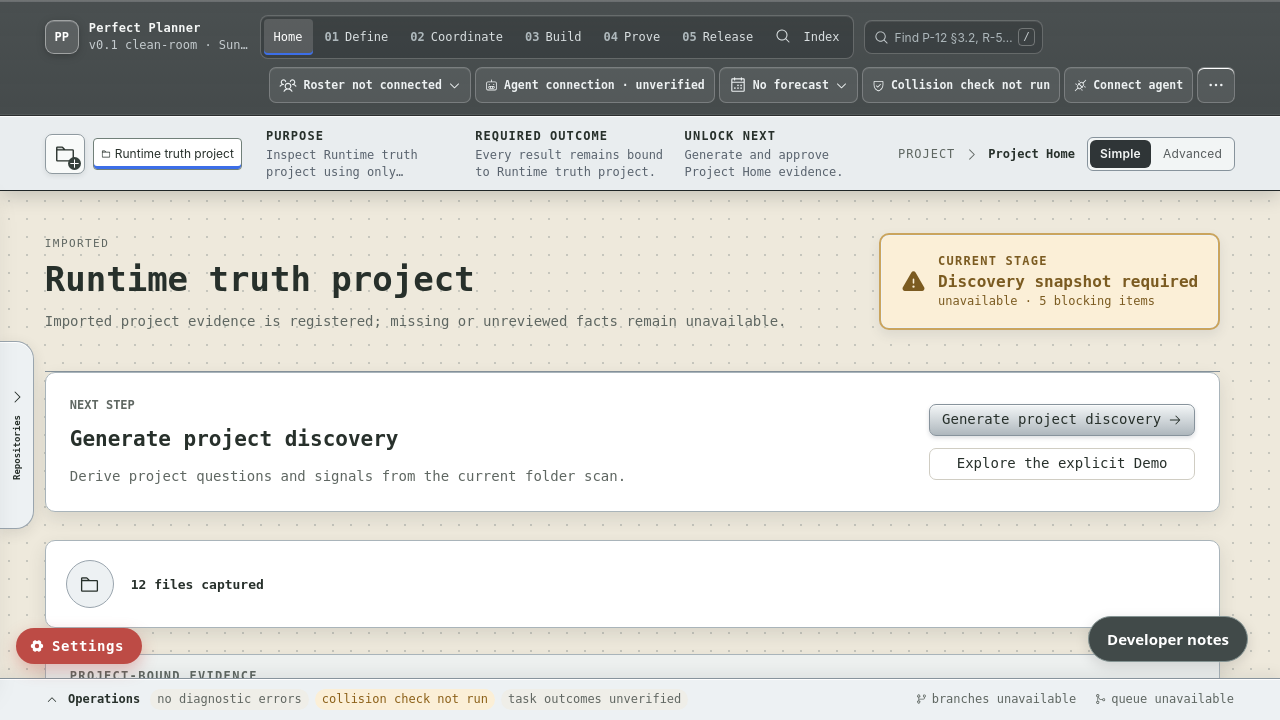
Test: project-scoped Runtime & Connections surface › only a current project-bound receipt grants scopes and enables its eligible action
The width and height of the screenshot is (1280, 720).
Click the button named "More actions" at (1216, 85), box x1=1197 y1=67 x2=1235 y2=103
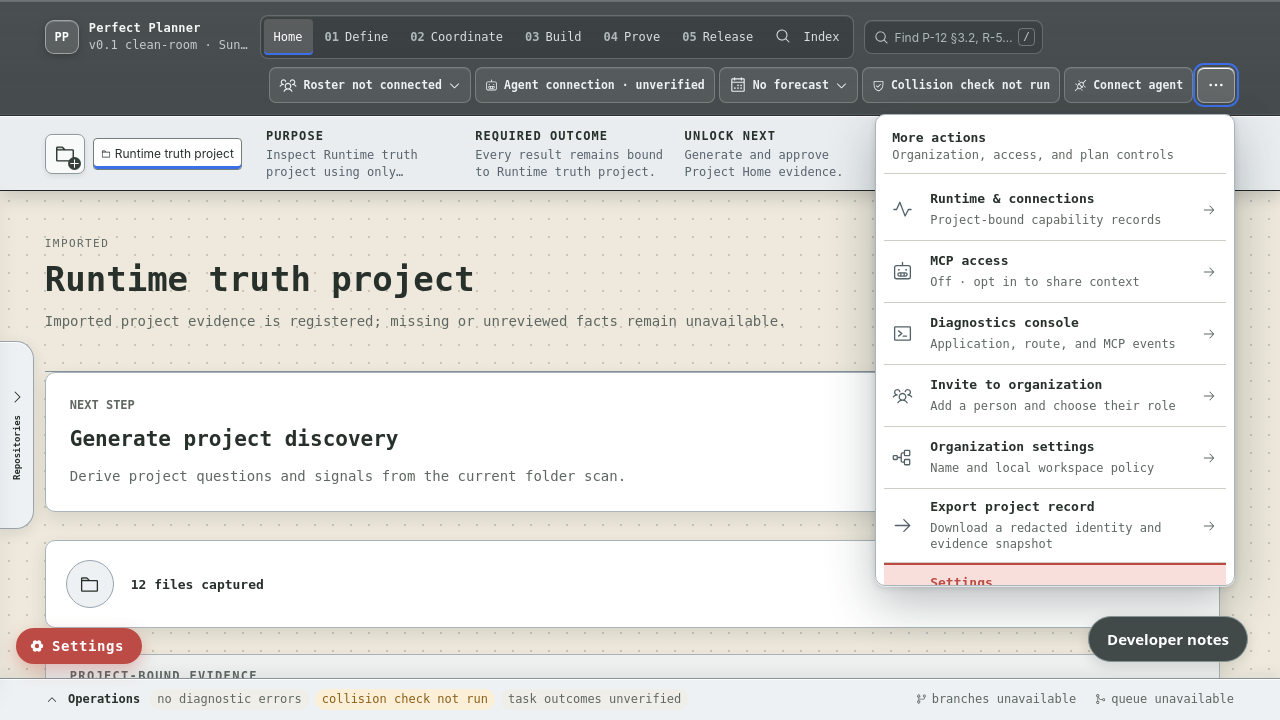
Click the button "Runtime & connections Project-bound capability records" at (1055, 210), box x1=884 y1=179 x2=1226 y2=241
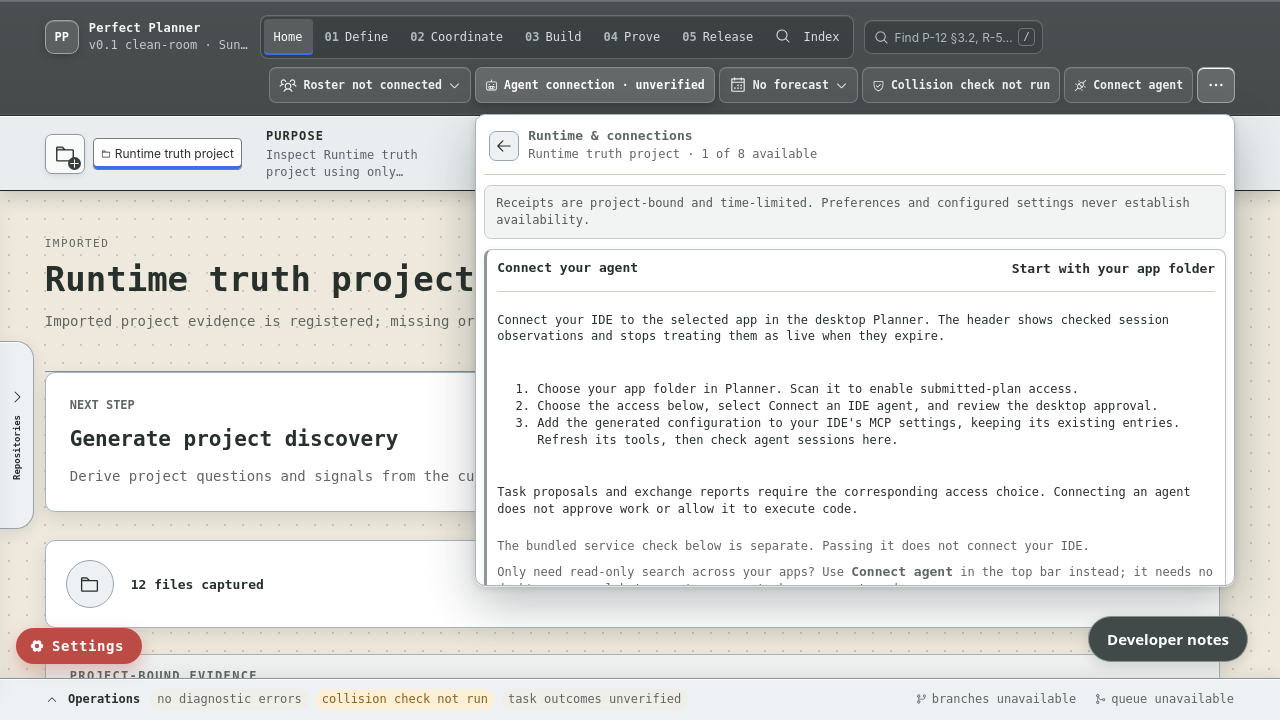
Now the text "Runtime truth project · 1 of 8 available" is shown, box x1=528 y1=146 x2=817 y2=163
